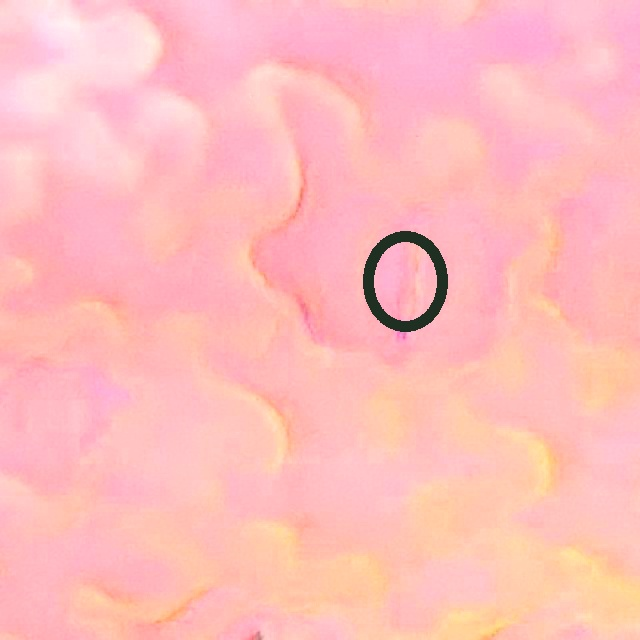open: (362, 230, 447, 332)
